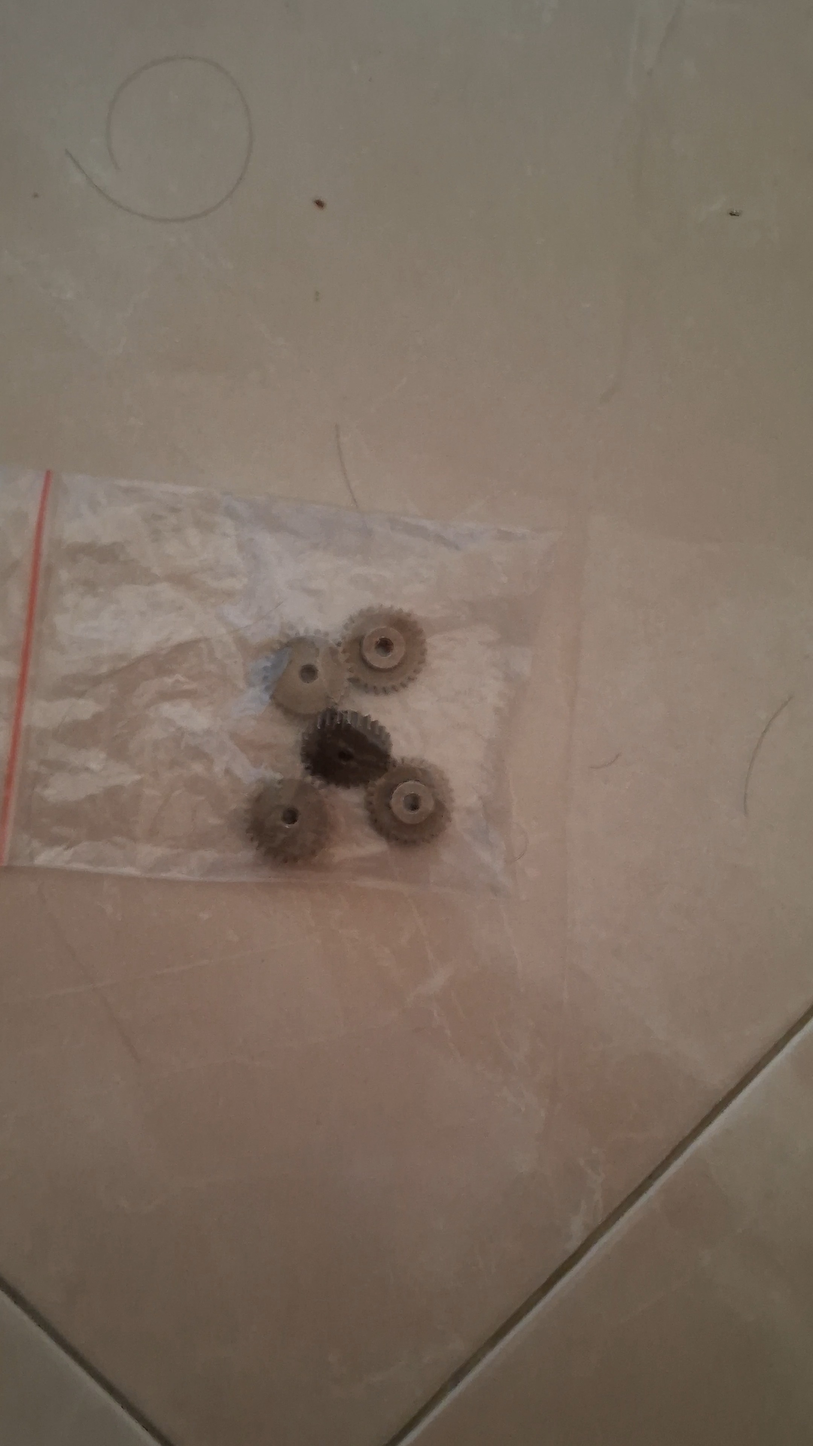spur gear: (341, 607, 426, 693), (366, 760, 451, 844), (301, 708, 391, 787), (247, 778, 330, 862), (271, 636, 346, 715)
